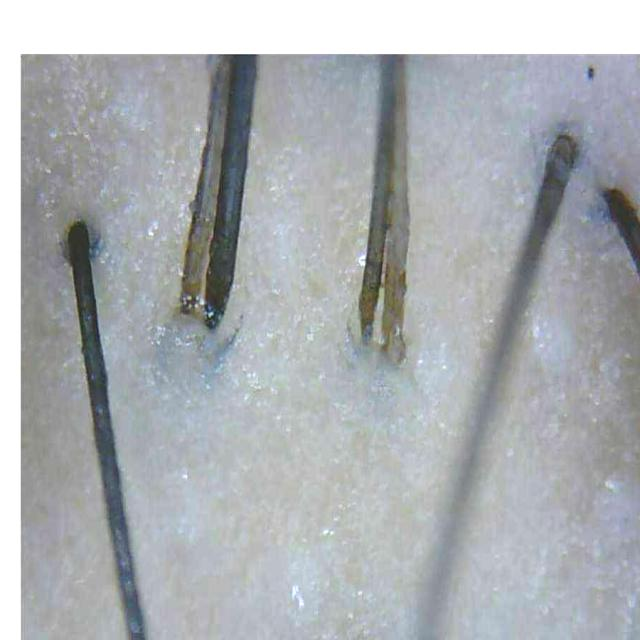d: (166, 294, 227, 325)
